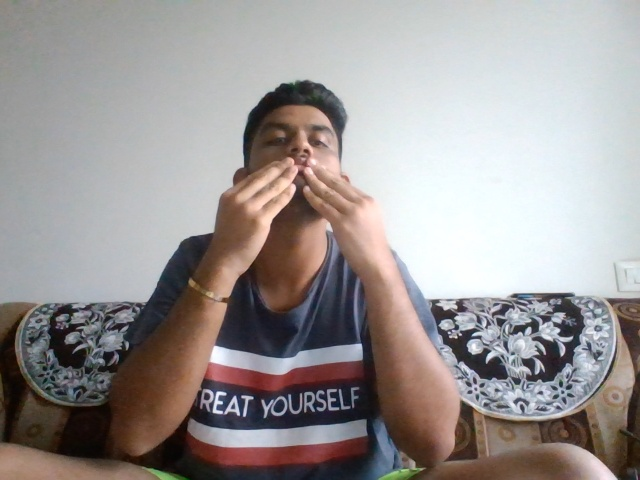Thank You: (201, 158, 399, 273)
